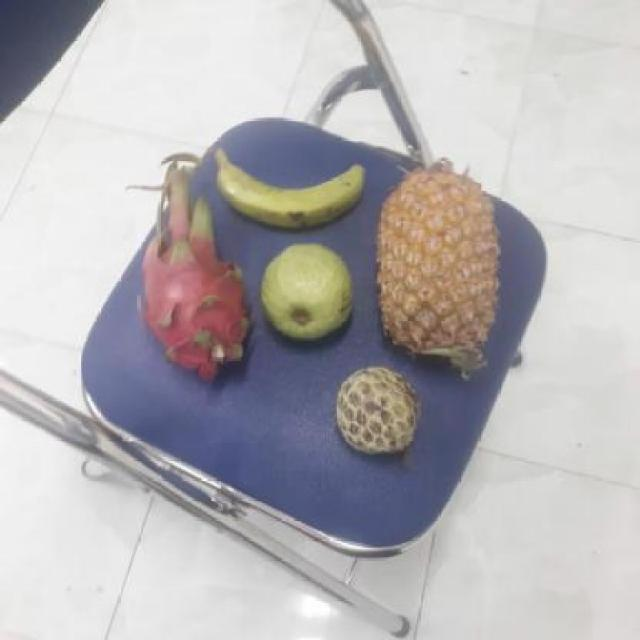dragon fruit: (138, 201, 258, 367)
guava: (261, 242, 359, 342)
pineapple: (376, 164, 507, 364)
sugar apple: (338, 369, 425, 456)
